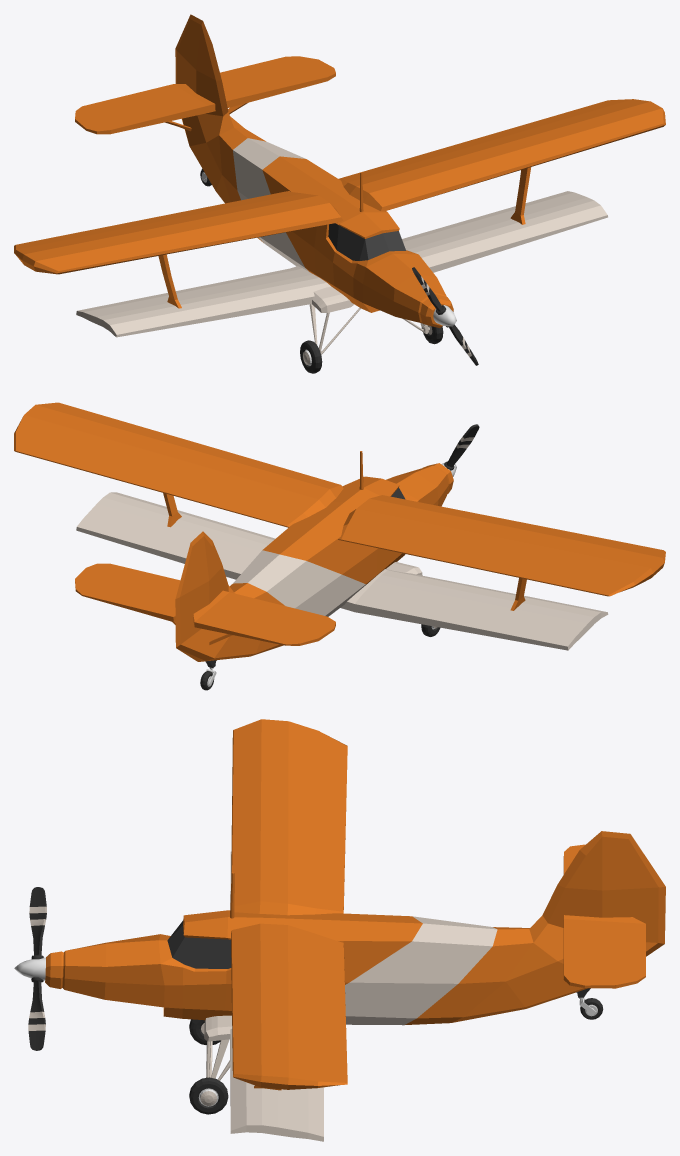
3 renders of one model, top to bottom at view 1: azimuth 30°, elevation 25°; view 2: azimuth 150°, elevation 25°; view 3: azimuth 270°, elevation 25°, orthographic. The views are drawn at different scales.
Parts seen in each view (by area): view 1: an2_wing_right, an2_wing_left, an2_body, an2_tail, an2_flap_left, an2_flap_right, an2_flap_back, an2_propeller, an2_front_wheels; view 2: an2_wing_right, an2_wing_left, an2_body, an2_tail, an2_flap_left, an2_flap_right, an2_flap_back, an2_propeller; view 3: an2_body, an2_wing_left, an2_tail, an2_wing_right, an2_flap_right, an2_flap_back, an2_flap_left, an2_propeller, an2_front_wheels.001.
Part boxes in pixels (bbox=[...]): an2_wing_right: bbox=[14, 193, 343, 337]; an2_wing_left: bbox=[348, 99, 665, 272]; an2_body: bbox=[233, 138, 453, 327]; an2_tail: bbox=[75, 21, 335, 242]; an2_flap_left: bbox=[342, 99, 632, 182]; an2_flap_right: bbox=[14, 191, 302, 252]; an2_flap_back: bbox=[175, 14, 202, 92]; an2_propeller: bbox=[412, 267, 478, 365]; an2_front_wheels: bbox=[300, 340, 322, 373]; an2_wing_right: bbox=[348, 495, 665, 650]; an2_wing_left: bbox=[14, 402, 340, 579]; an2_body: bbox=[233, 451, 453, 616]; an2_tail: bbox=[75, 531, 335, 685]; an2_flap_left: bbox=[14, 431, 302, 527]; an2_flap_right: bbox=[338, 524, 635, 596]; an2_flap_back: bbox=[175, 531, 209, 647]; an2_propeller: bbox=[441, 424, 479, 476]; an2_body: bbox=[45, 872, 497, 1041]; an2_wing_left: bbox=[230, 923, 323, 1141]; an2_tail: bbox=[405, 831, 664, 1024]; an2_wing_right: bbox=[230, 719, 318, 908]; an2_flap_right: bbox=[316, 731, 347, 911]; an2_flap_back: bbox=[601, 831, 665, 943]; an2_flap_left: bbox=[316, 934, 347, 1087]; an2_propeller: bbox=[14, 887, 46, 1050]; an2_front_wheels.001: bbox=[189, 1077, 228, 1114].
Bounding box in the file's own units: 8.86 × 2.86 × 6.8.
